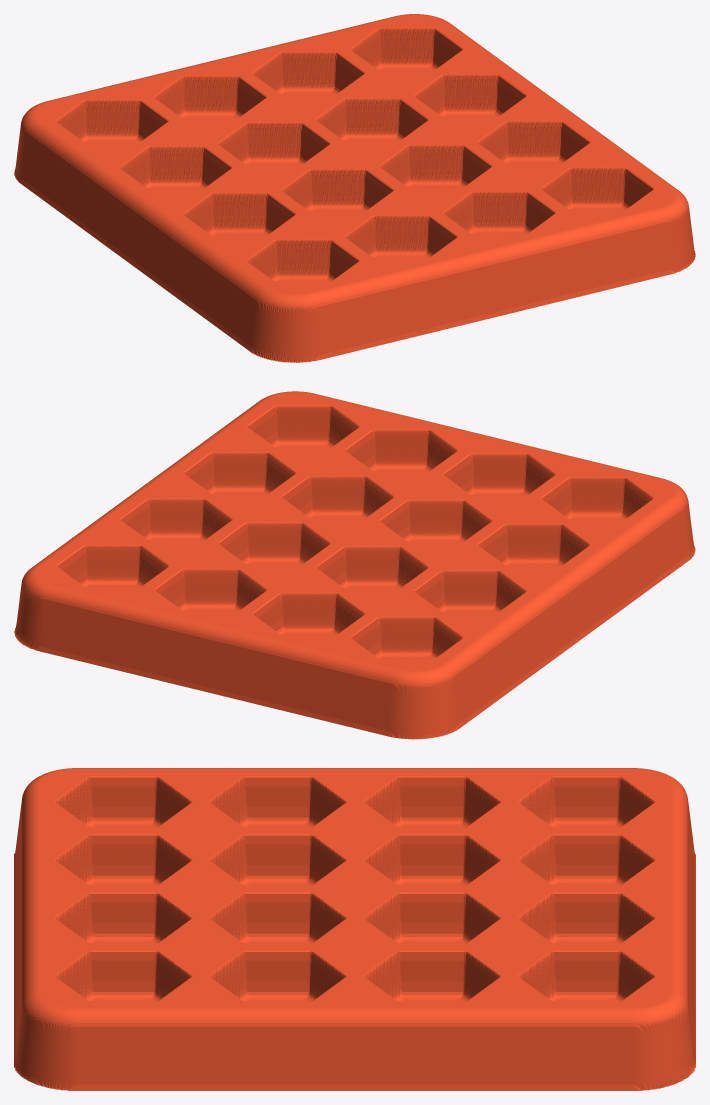
The model's file is mold.glb.
The picture shows the model from 3 angles, top to bottom: view 1: azimuth 30°, elevation 25°; view 2: azimuth 150°, elevation 25°; view 3: azimuth 270°, elevation 25°; orthographic projection. The views are drawn at different scales.
Parts seen in each view (by area): view 1: geometry_0; view 2: geometry_0; view 3: geometry_0.
Part boxes in pixels (left/top/right/bottom): geometry_0: left=14, top=14, right=695, bottom=362; geometry_0: left=14, top=391, right=695, bottom=739; geometry_0: left=14, top=768, right=695, bottom=1090.
Size of the model in its own units: 0.0876 by 0.0114 by 0.0972.
